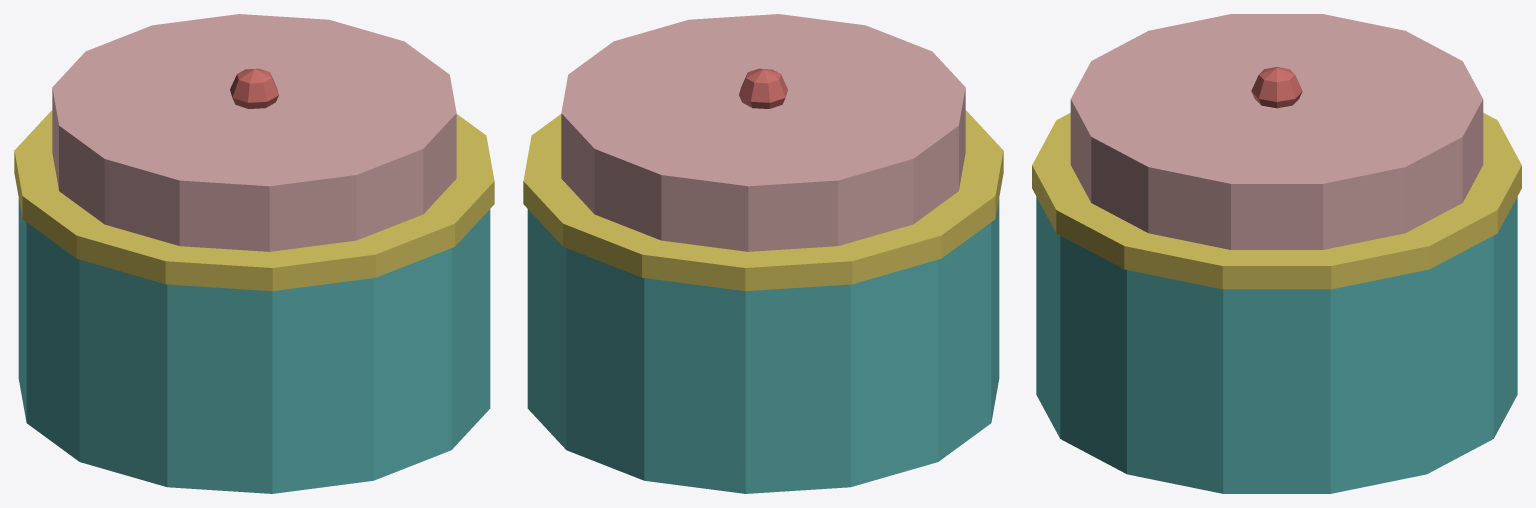
The model's file is kids_puff.glb.
3 renders of one model, left to right at view 1: azimuth 30°, elevation 25°; view 2: azimuth 150°, elevation 25°; view 3: azimuth 270°, elevation 25°, orthographic.
Visible parts, largest first — view 1: KIDS_PUFF_v01; view 2: KIDS_PUFF_v01; view 3: KIDS_PUFF_v01.
Part boxes in pixels (x1,y1,x2,y2): KIDS_PUFF_v01: (14, 14, 494, 493); KIDS_PUFF_v01: (523, 14, 1003, 493); KIDS_PUFF_v01: (1032, 14, 1521, 493).
Size of the model in its own units: 0.5557 by 0.42 by 0.57.
